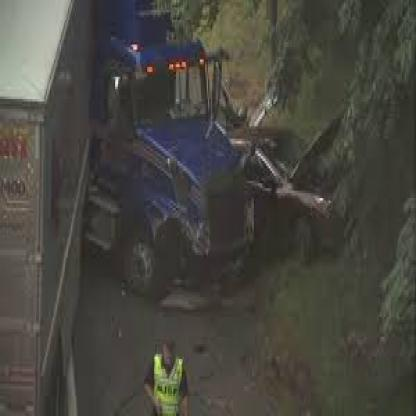accident: (92, 2, 369, 328)
